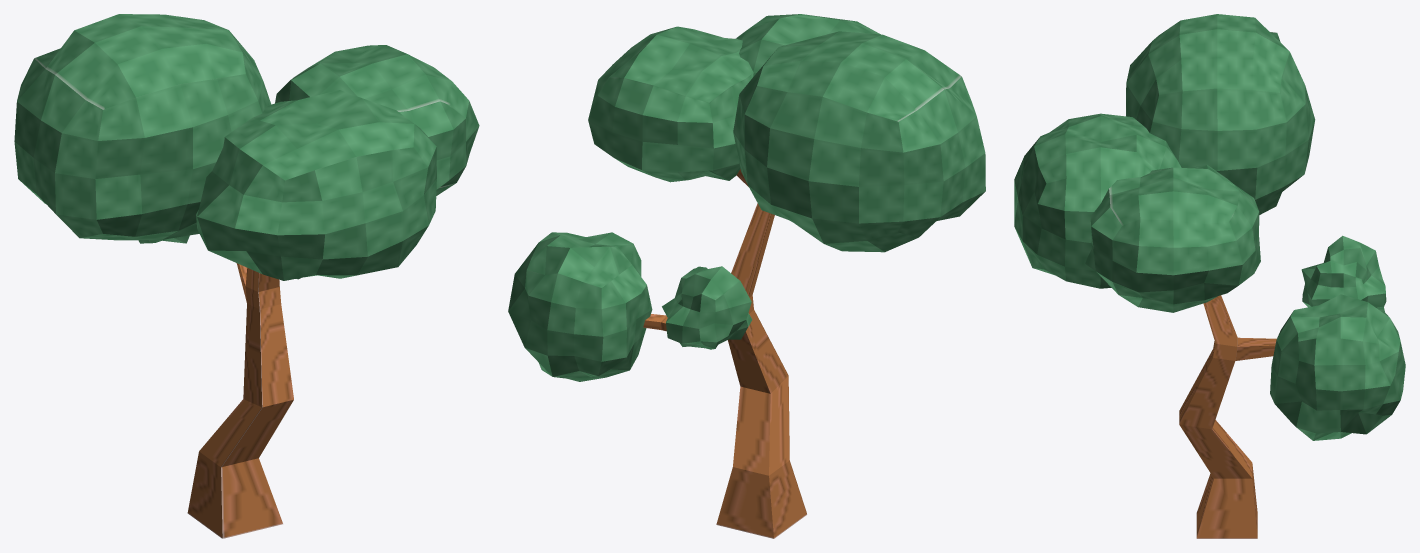
The model's file is Arbol_Textured.fbx.
3 renders of one model, left to right at view 1: azimuth 30°, elevation 25°; view 2: azimuth 150°, elevation 25°; view 3: azimuth 270°, elevation 25°, orthographic. The views are drawn at different scales.
Visible parts, largest first — view 1: Hojas, Arbol; view 2: Hojas, Arbol; view 3: Hojas, Arbol.
Boxes of the visible parts, x1,y1,x2,y2 form: Hojas: (14,14,479,280); Arbol: (187,263,293,538); Hojas: (508,14,985,381); Arbol: (643,169,806,538); Hojas: (1014,14,1405,440); Arbol: (1179,295,1276,538).
Size of the model in its own units: 2278 by 2796 by 2183.
